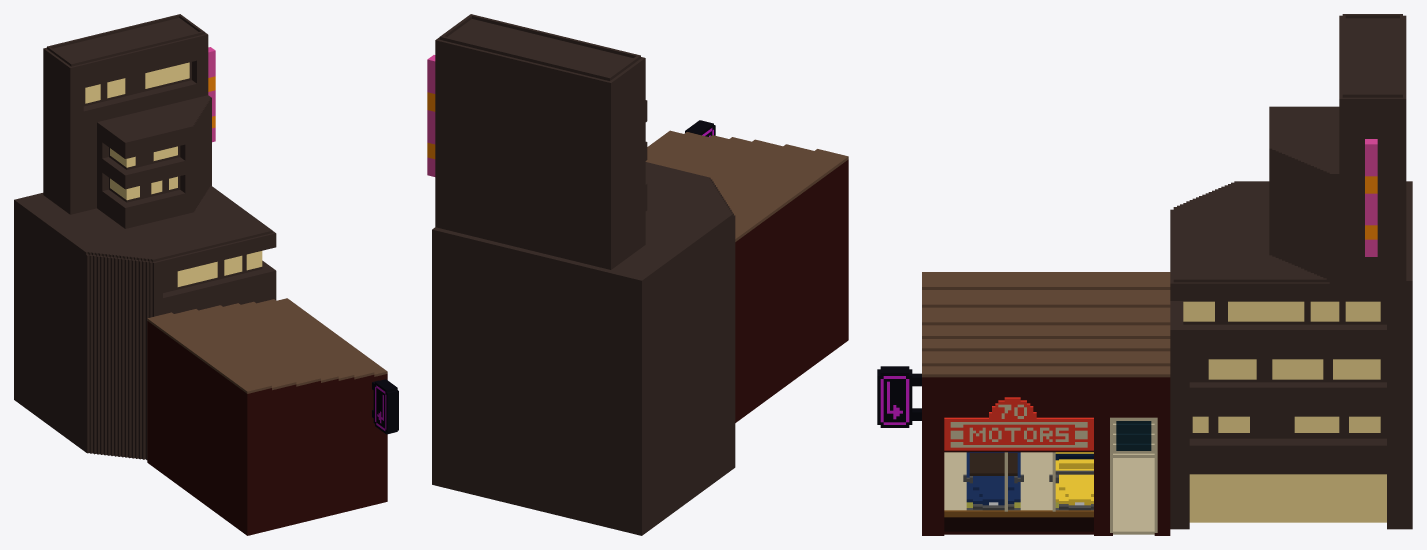
Rendered from SideBuilding1.obj.
3 renders of one model, left to right at view 1: azimuth 30°, elevation 25°; view 2: azimuth 150°, elevation 25°; view 3: azimuth 270°, elevation 25°, orthographic. The views are drawn at different scales.
Bounding box in the file's own units: 8.2 × 15 × 16.8.
Materials: 1 (1 with a texture image).
